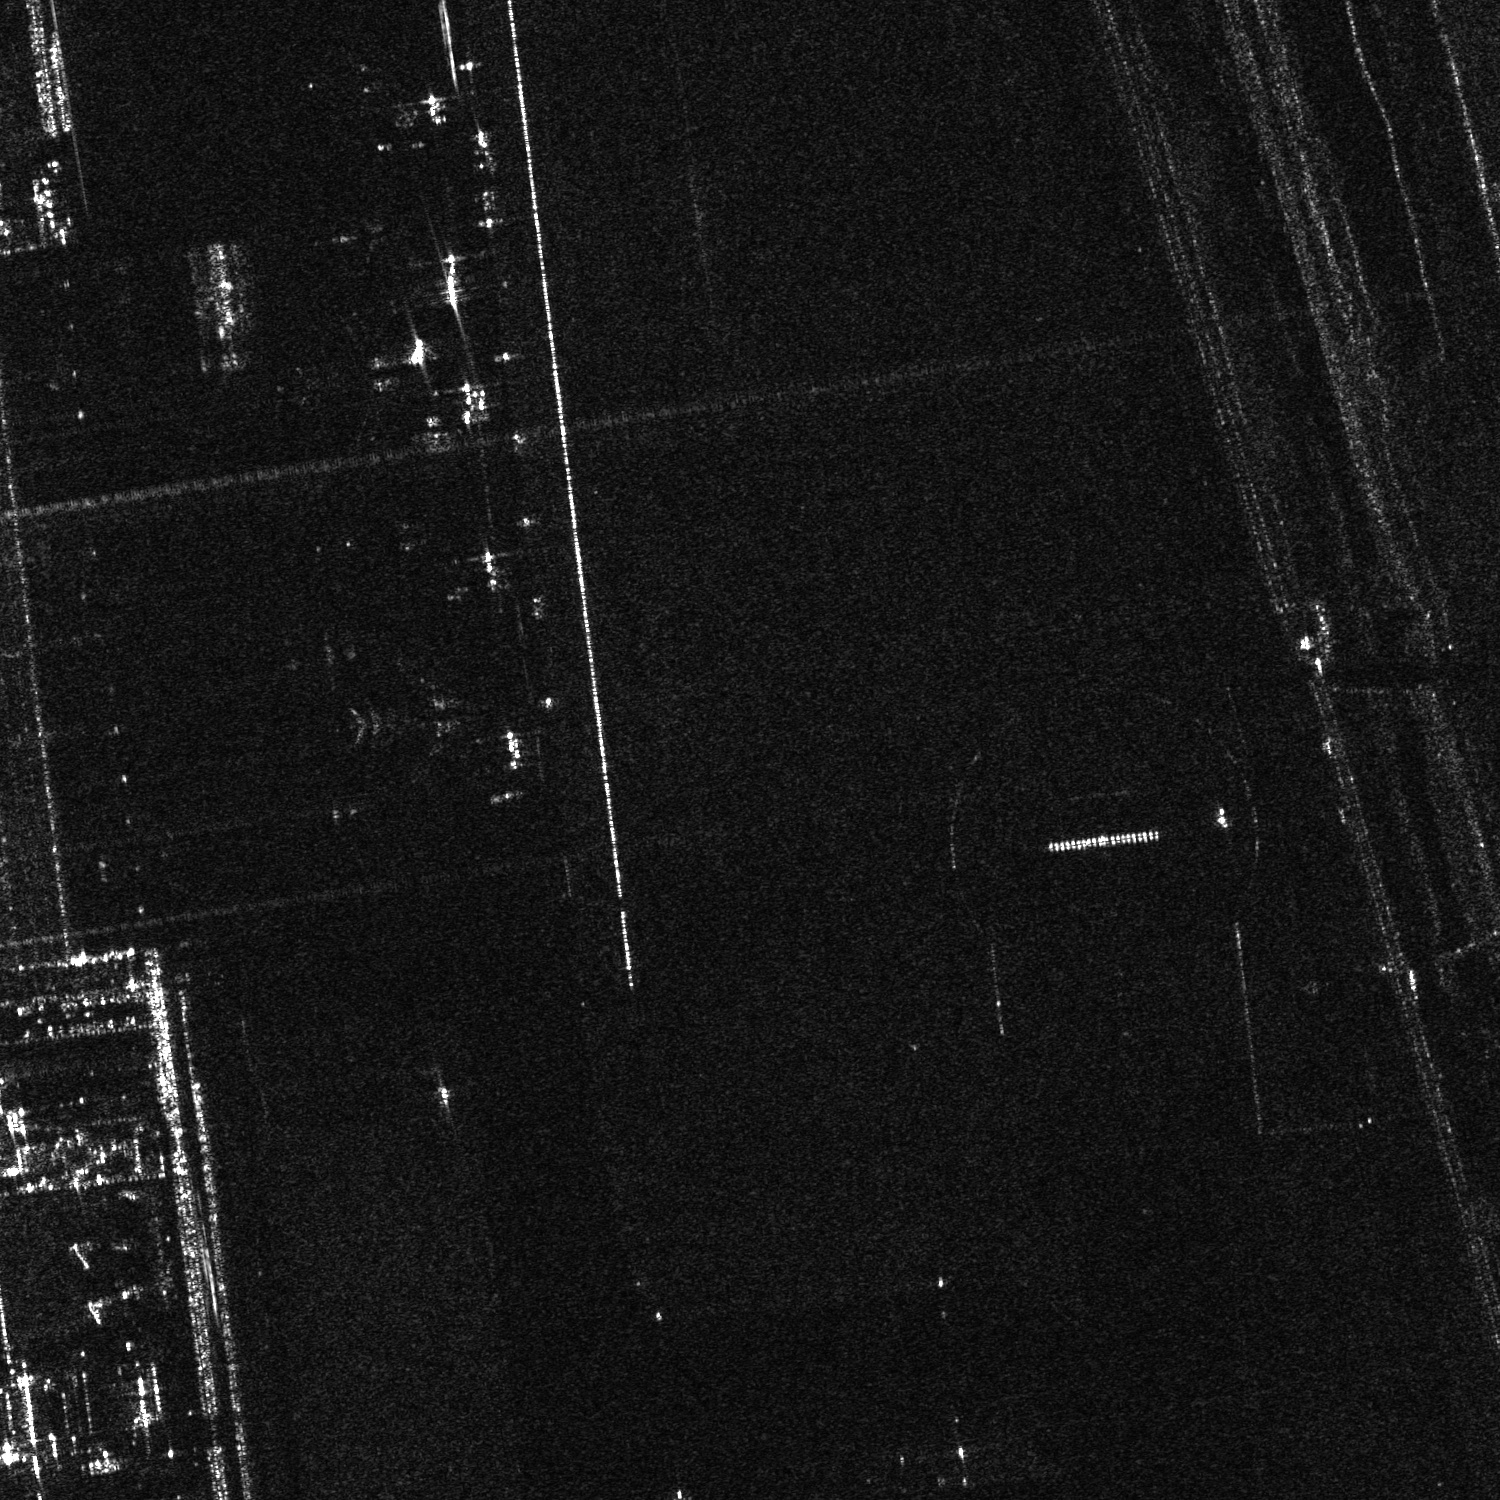A220: (312, 198, 400, 277)
A330: (295, 313, 408, 442)
Boeing787: (349, 652, 488, 782)
